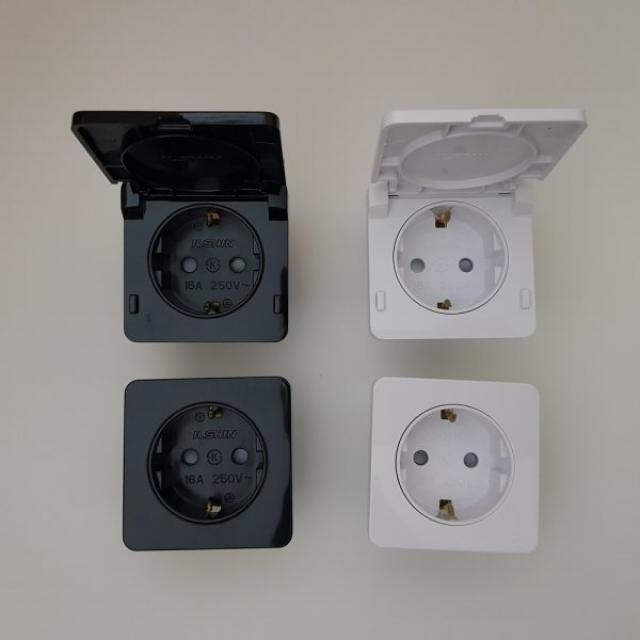typeb: (51, 70, 324, 353), (345, 369, 568, 579)
